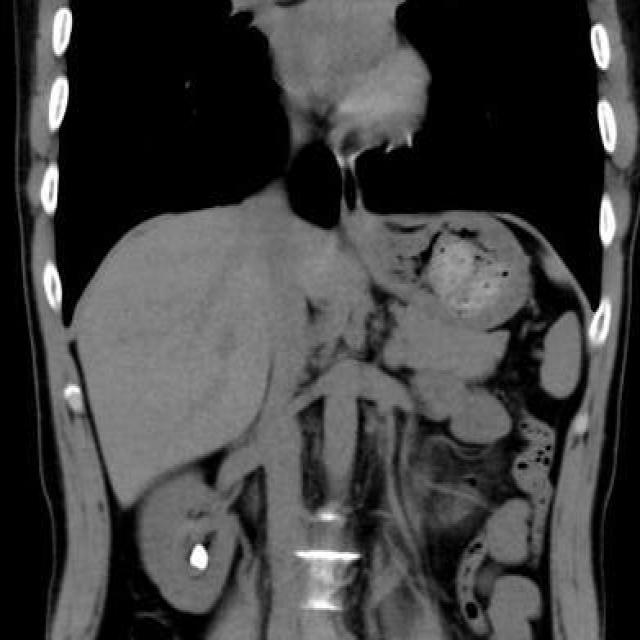Tas_Var: (187, 542, 210, 572)
